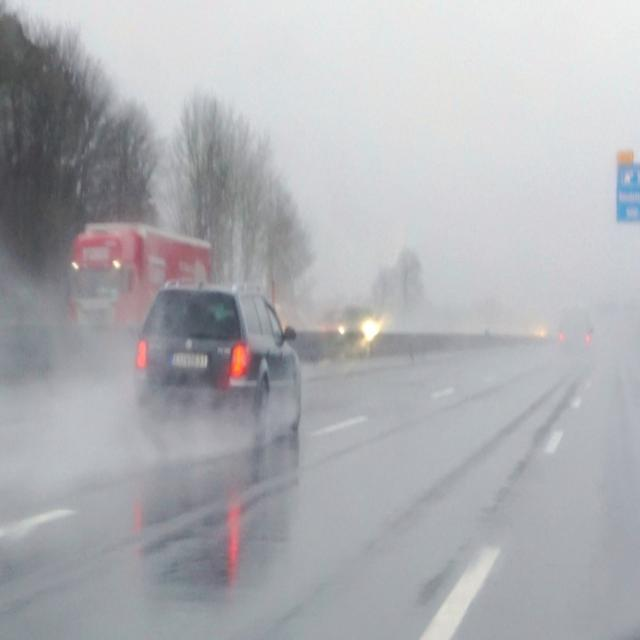bus: (67, 220, 217, 338)
car: (132, 286, 302, 445), (557, 307, 595, 355), (337, 302, 371, 336)
